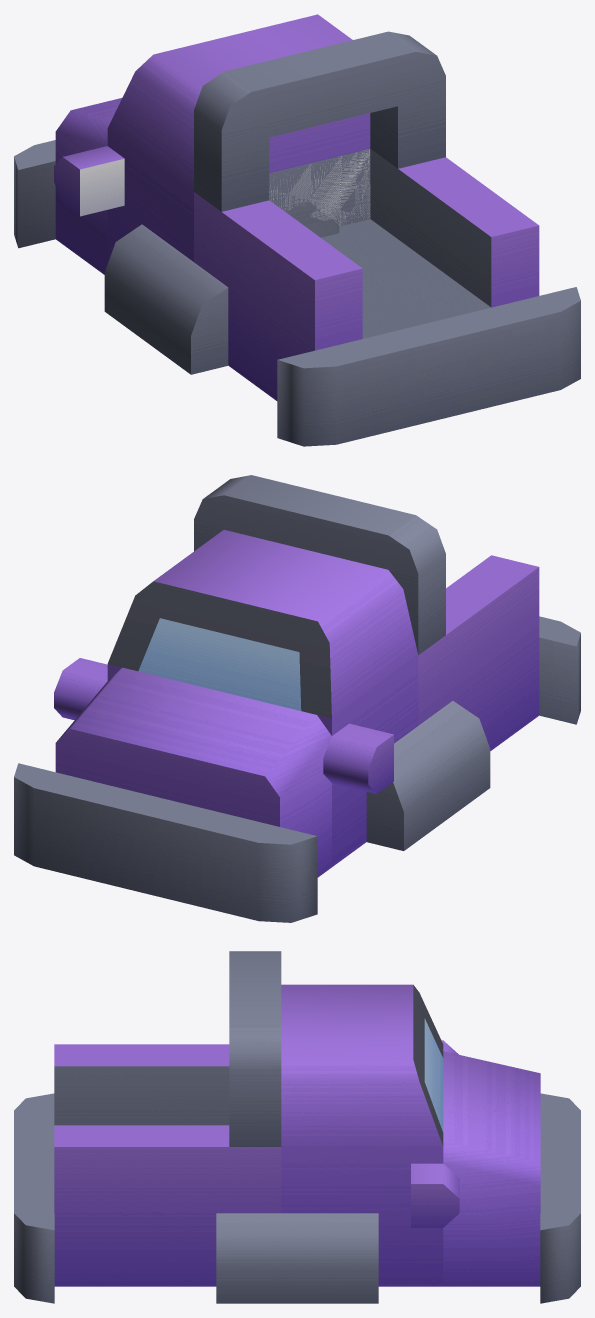
The model's file is vehicle-suv.glb.
3 renders of one model, top to bottom at view 1: azimuth 30°, elevation 25°; view 2: azimuth 150°, elevation 25°; view 3: azimuth 270°, elevation 25°, orthographic. The views are drawn at different scales.
Parts seen in each view (by area): view 1: vehicle-suv; view 2: vehicle-suv; view 3: vehicle-suv.
Boxes of the visible parts, <box> form: vehicle-suv: <box>14,14,580,446</box>; vehicle-suv: <box>14,475,580,922</box>; vehicle-suv: <box>14,951,580,1303</box>.
Bounding box in the file's own units: 1.57 × 1.51 × 2.62.
1 material, 1 textured.
